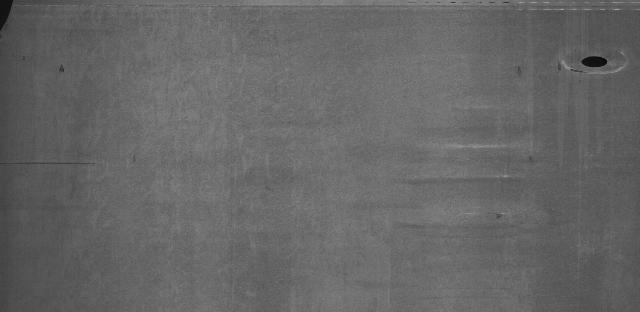punching_hole: (577, 53, 612, 70)
